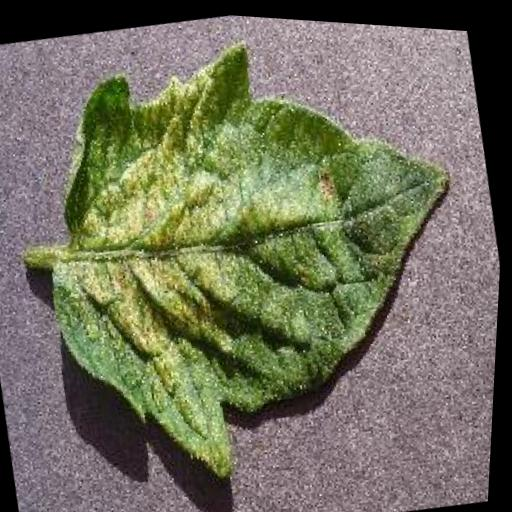Spider Mites: (7, 1, 511, 509)
